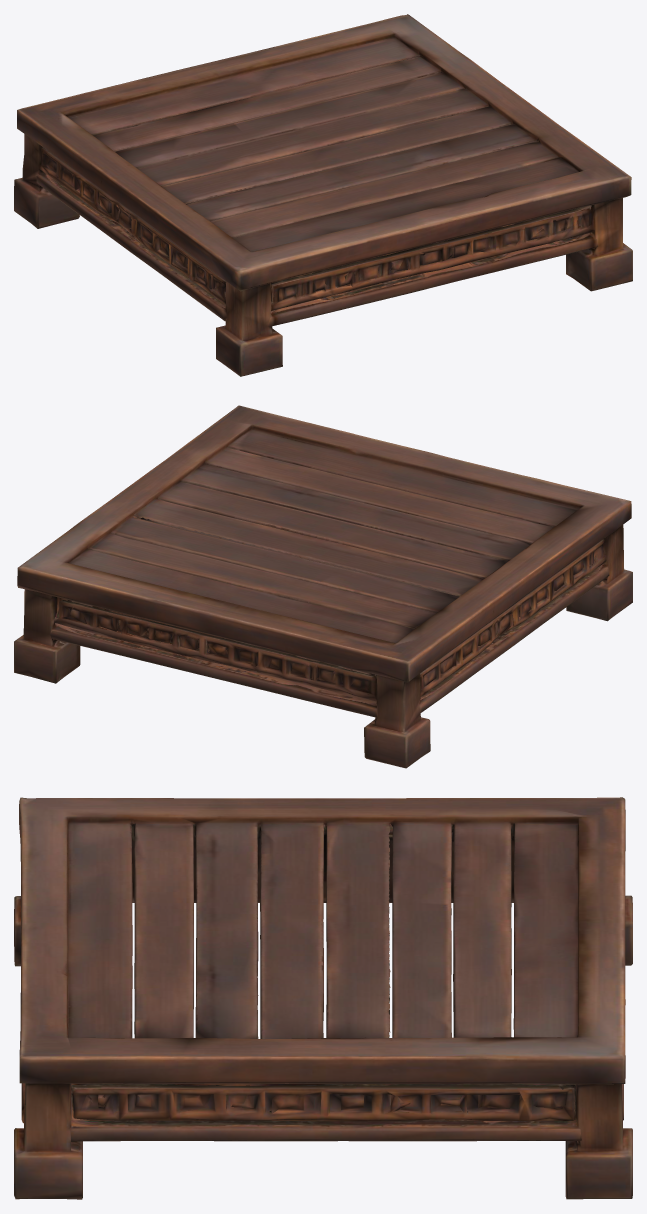
File: Meshy_AI_Oriental_Wooden_Platf_0220192344_texture.glb
The picture shows the model from 3 angles, top to bottom: view 1: azimuth 30°, elevation 25°; view 2: azimuth 150°, elevation 25°; view 3: azimuth 270°, elevation 25°; orthographic projection. The views are drawn at different scales.
Visible parts, largest first — view 1: Mesh1; view 2: Mesh1; view 3: Mesh1.
Part boxes in pixels (x1,y1,x2,y2): Mesh1: (14, 14, 632, 376); Mesh1: (14, 405, 632, 768); Mesh1: (14, 797, 632, 1199).
Bounding box in the file's own units: 2 × 0.5069 × 2.
Materials: 1 (1 with a texture image).
